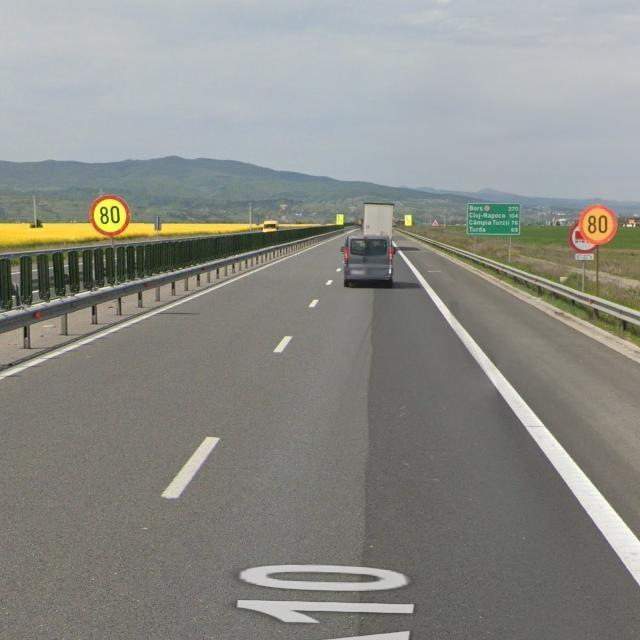forb_speed_over_80: (572, 204, 617, 246), (90, 195, 130, 236)
